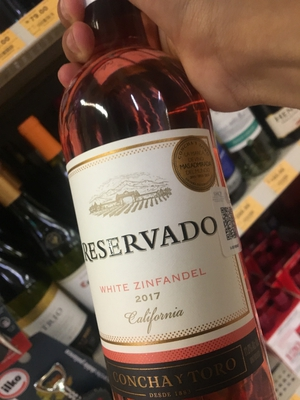reservado white zinfandel: (58, 7, 268, 400)
